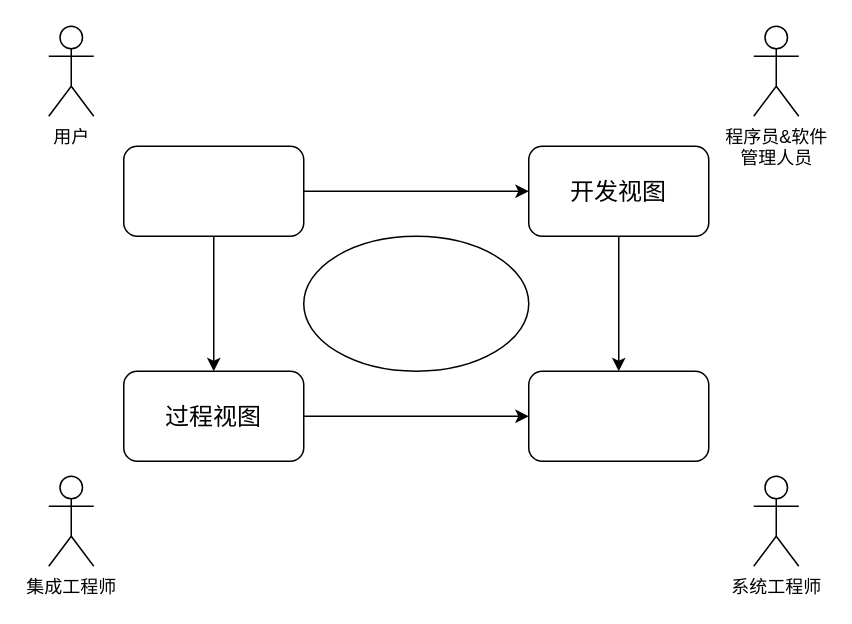
Some shapes in this 852 by 624 pixel diagram are drawn without their labels. The shapes that lost their labels are listed below. From the top down, each one's centre as x and y in pixels, then its label:
At point (213, 190): "逻辑视图".
At point (415, 303): "场景".
At point (618, 415): "物理视图".
